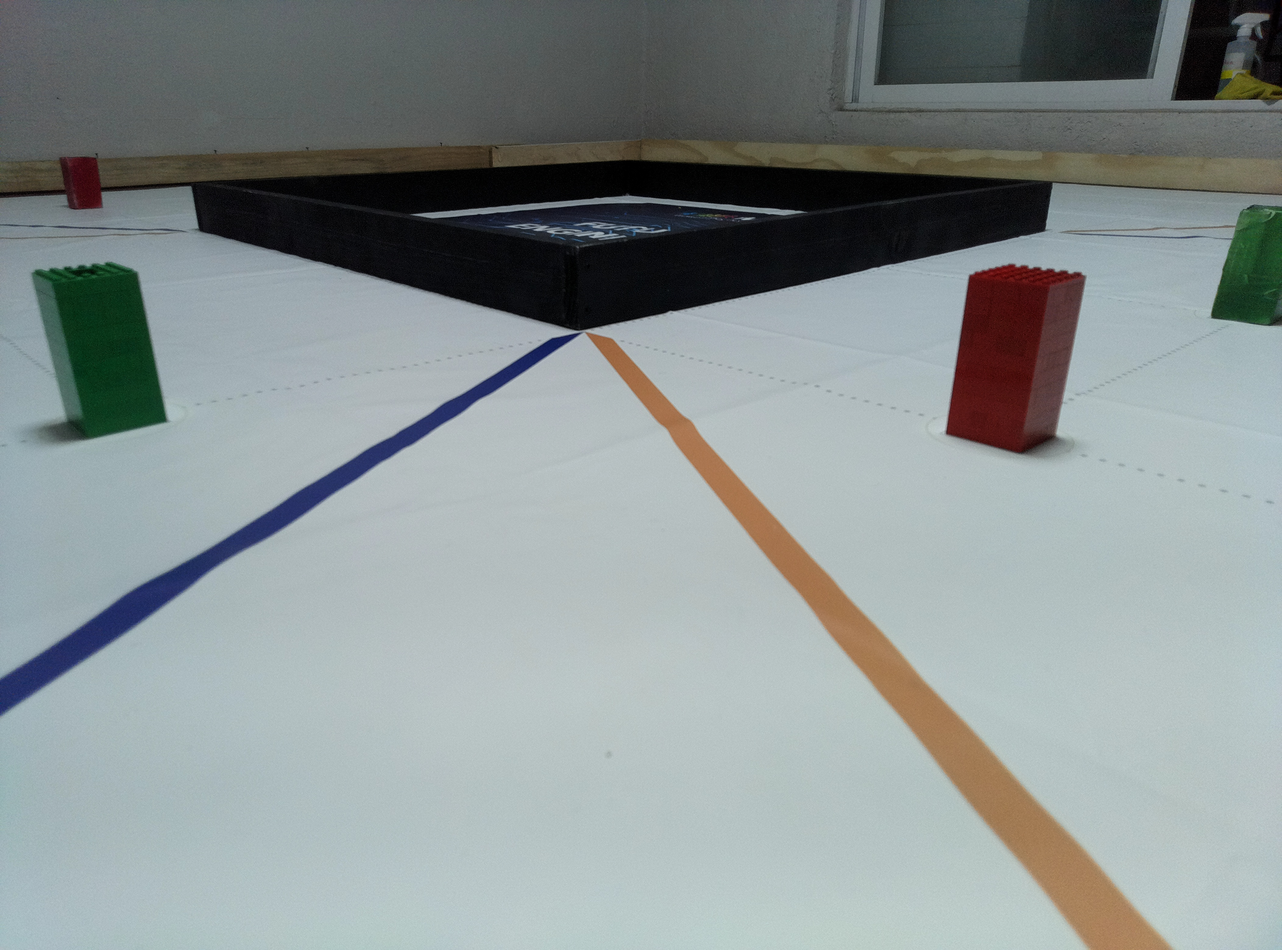greenbox: (26, 264, 172, 447), (1206, 204, 1280, 330)
redbox: (944, 262, 1089, 456), (58, 157, 105, 211)
